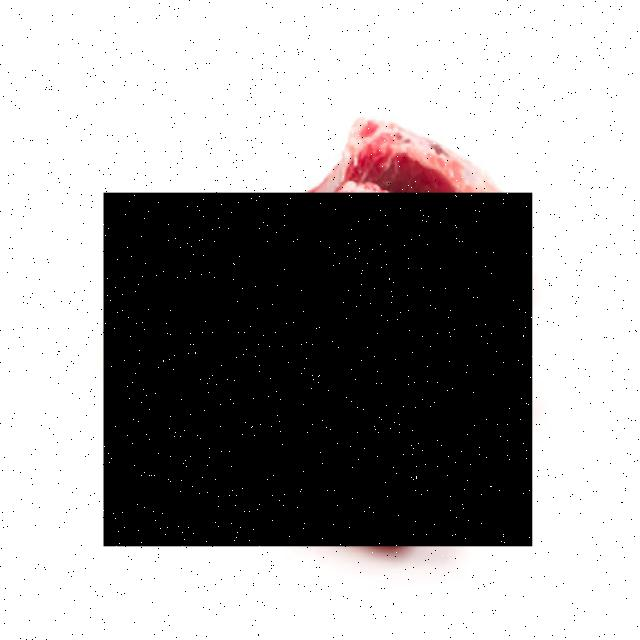Buff_Meat: (104, 194, 532, 547)
